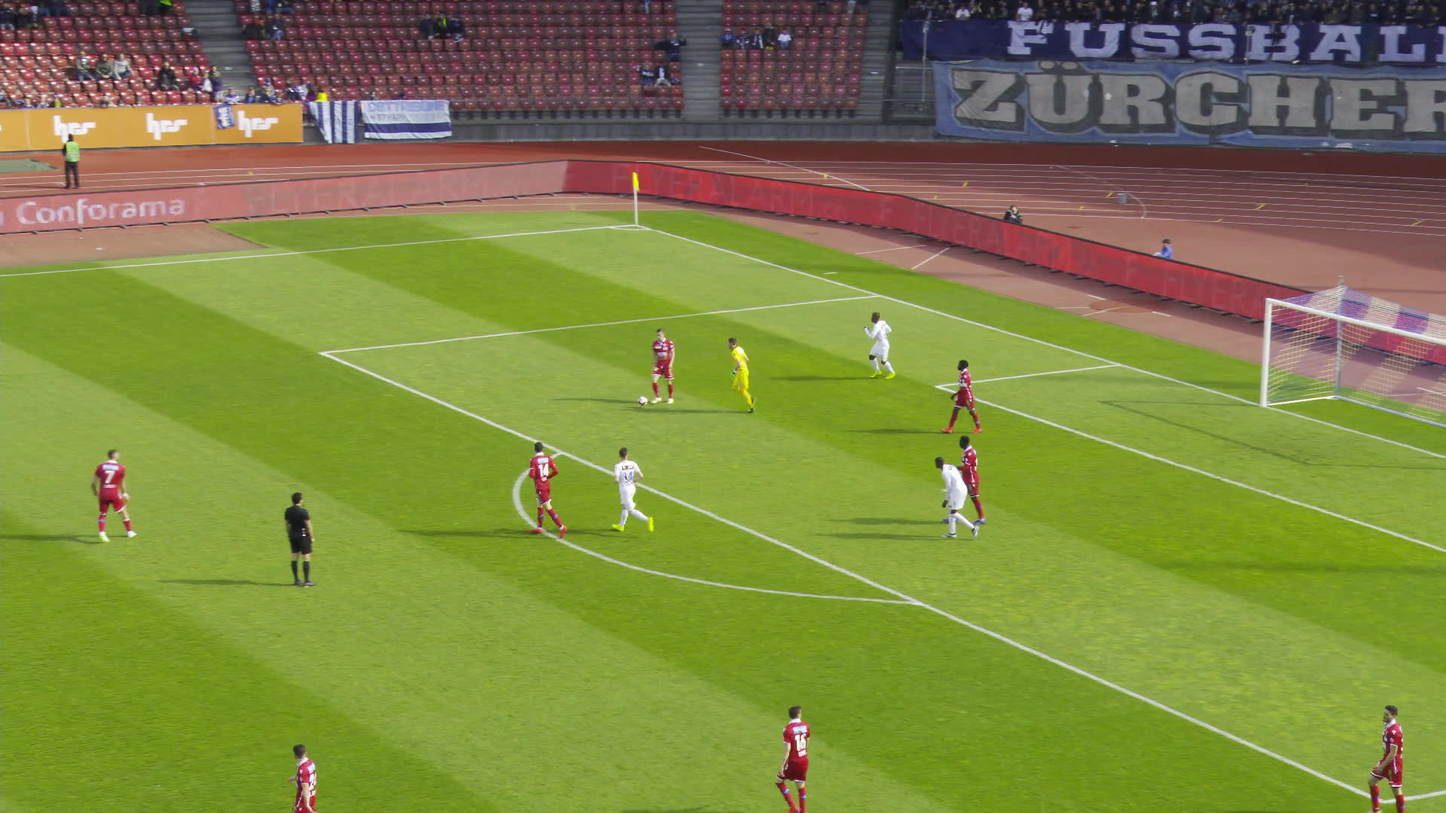ball: (637, 395, 647, 404)
player: (762, 704, 813, 812), (1366, 701, 1407, 812), (91, 447, 138, 543), (528, 441, 568, 539), (942, 434, 984, 525), (611, 447, 654, 534), (934, 456, 978, 541), (941, 358, 981, 434), (286, 738, 320, 812), (864, 310, 897, 380), (649, 327, 676, 403), (728, 337, 755, 411)
referee: (283, 489, 315, 589)
